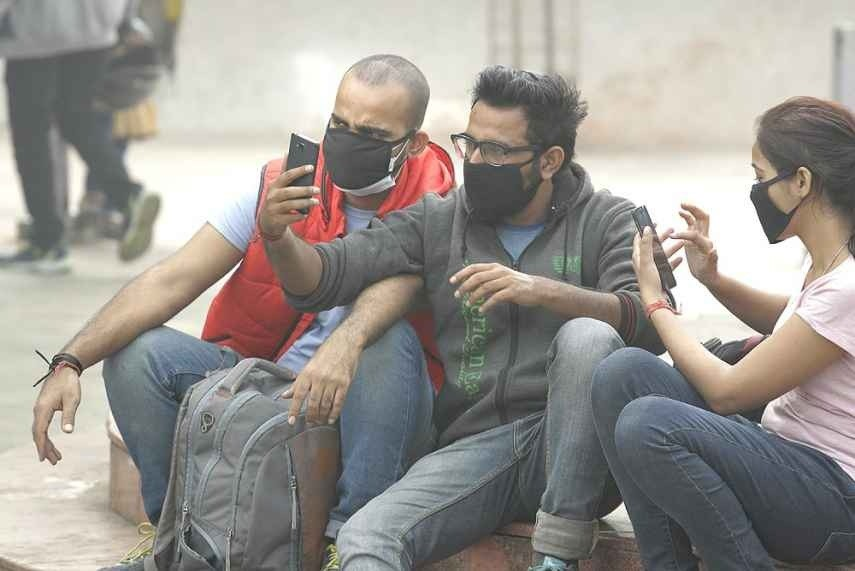face_with_mask: (454, 64, 581, 230), (316, 50, 430, 201), (740, 103, 844, 247)
